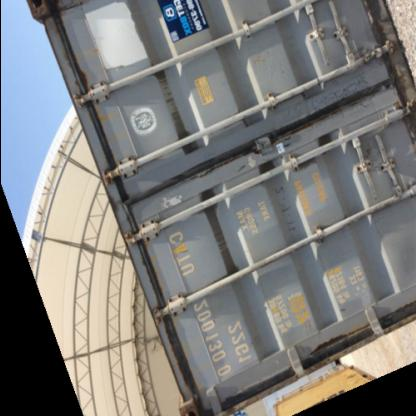Damage: (277, 76, 382, 132), (142, 72, 188, 134), (302, 318, 370, 359), (266, 183, 298, 247), (58, 46, 93, 98), (138, 248, 160, 300)
